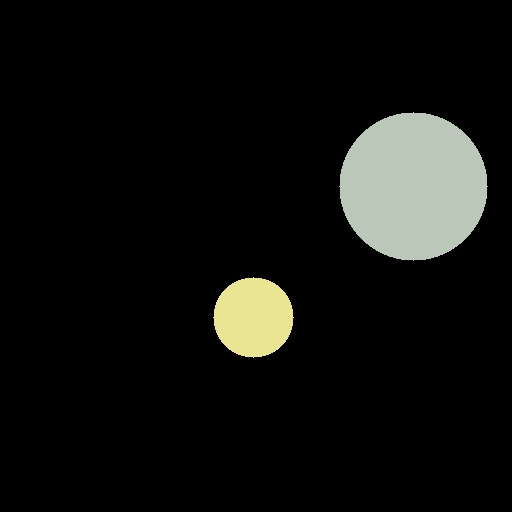circle: (339, 112, 487, 260), (213, 277, 293, 357)
